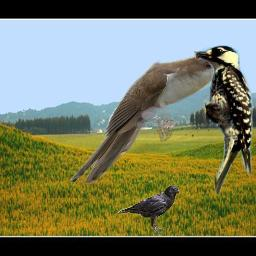Crow: (115, 185, 179, 235)
Cuckoo: (70, 55, 239, 183)
Woodpecker: (192, 45, 256, 196)
